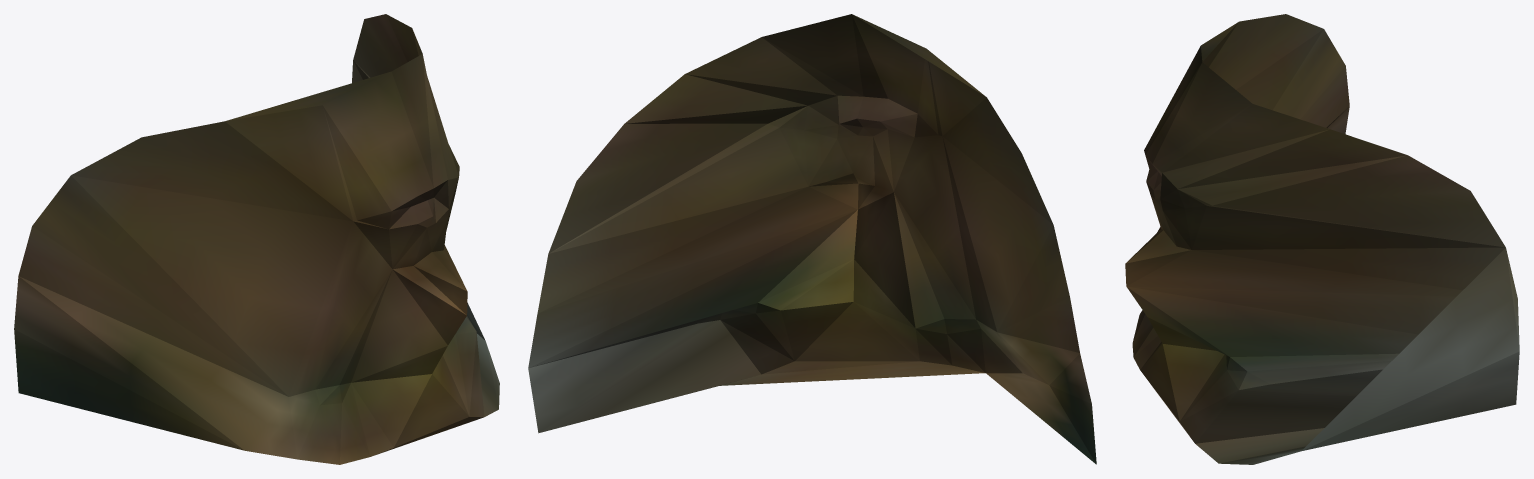
The model's file is real_1871.obj.
3 renders of one model, left to right at view 1: azimuth 30°, elevation 25°; view 2: azimuth 150°, elevation 25°; view 3: azimuth 270°, elevation 25°, orthographic. The views are drawn at different scales.
Bounding box in the file's own units: 116 × 92 × 94.36.
